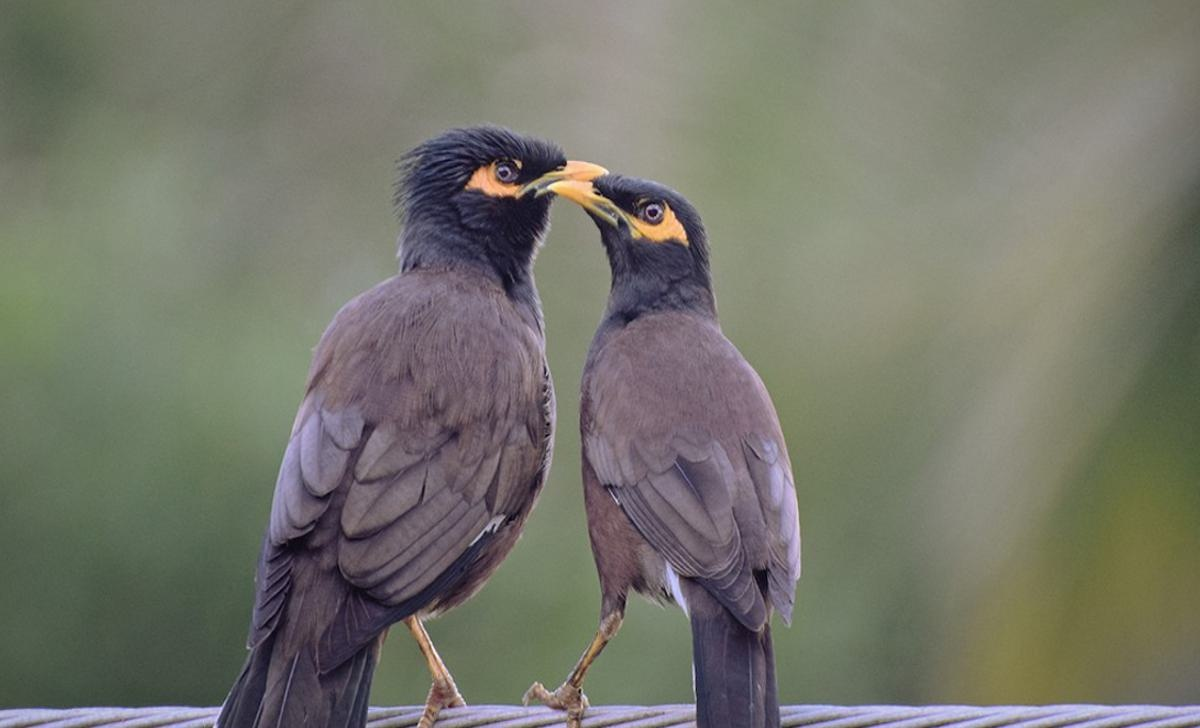myna: (197, 129, 585, 725), (548, 158, 885, 728)
